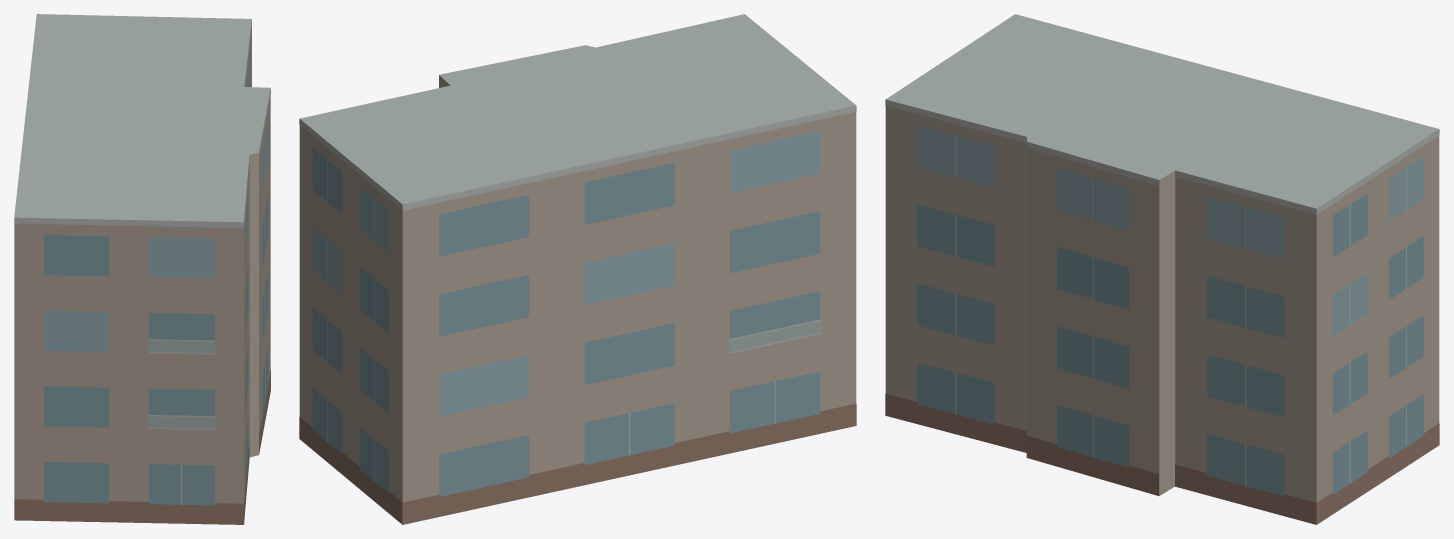
The model's file is survey-upis-32683915.glb.
3 views of the same model, side by side, from view 1: azimuth 30°, elevation 25°; view 2: azimuth 150°, elevation 25°; view 3: azimuth 270°, elevation 25° (orthographic). The views are drawn at different scales.
Parts seen in each view (by area): view 1: survey-upis-32683915.tmp; view 2: survey-upis-32683915.tmp; view 3: survey-upis-32683915.tmp.
Boxes of the visible parts, <box> form: survey-upis-32683915.tmp: <box>14,14,270,524</box>; survey-upis-32683915.tmp: <box>299,14,856,524</box>; survey-upis-32683915.tmp: <box>885,14,1439,524</box>.
Size of the model in its own units: 16.6 by 12.56 by 19.95.
